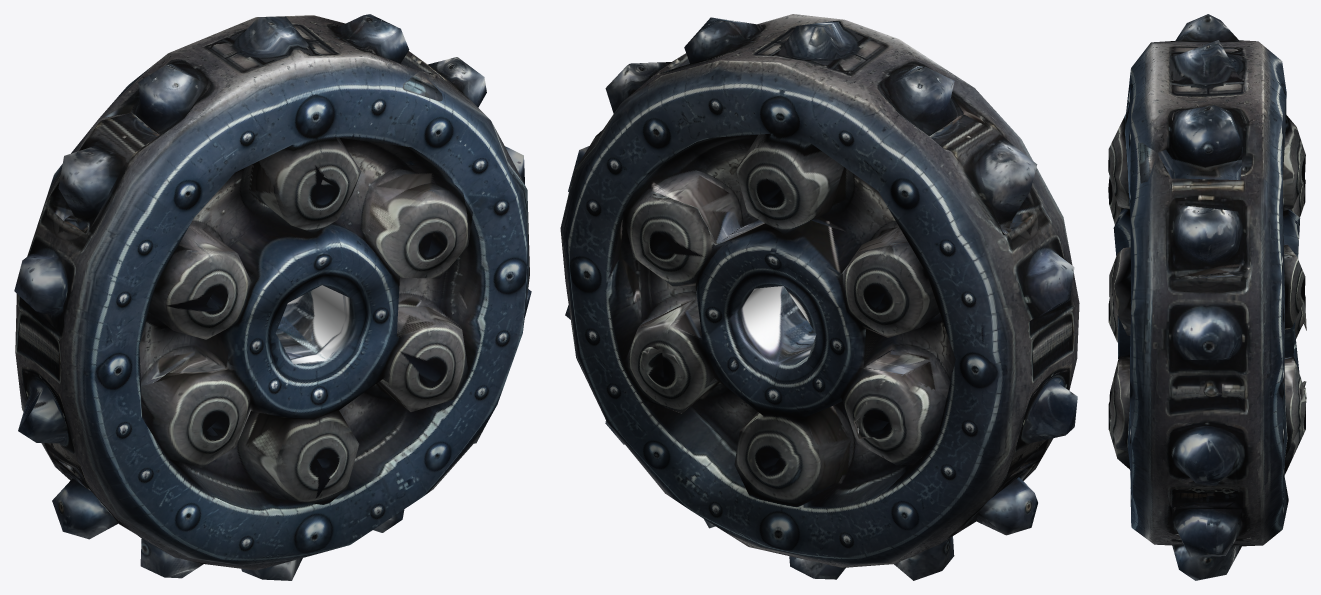
Rendered from Neck2.fbx.
3 views of the same model, side by side, from view 1: azimuth 30°, elevation 25°; view 2: azimuth 150°, elevation 25°; view 3: azimuth 270°, elevation 25° (orthographic). The views are drawn at different scales.
Visible parts, largest first — view 1: texture_mapping; view 2: texture_mapping; view 3: texture_mapping.
Part boxes in pixels (bbox=[...]): texture_mapping: bbox=[14, 14, 531, 580]; texture_mapping: bbox=[560, 14, 1079, 580]; texture_mapping: bbox=[1108, 14, 1306, 580].
Size of the model in its own units: 0.9062 by 0.3355 by 0.9524.
1 material, 1 textured.
